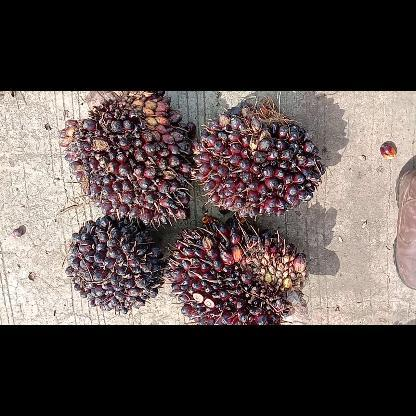TBS mentah: (58, 90, 198, 228), (190, 102, 326, 222), (166, 214, 310, 324), (63, 216, 167, 312)
